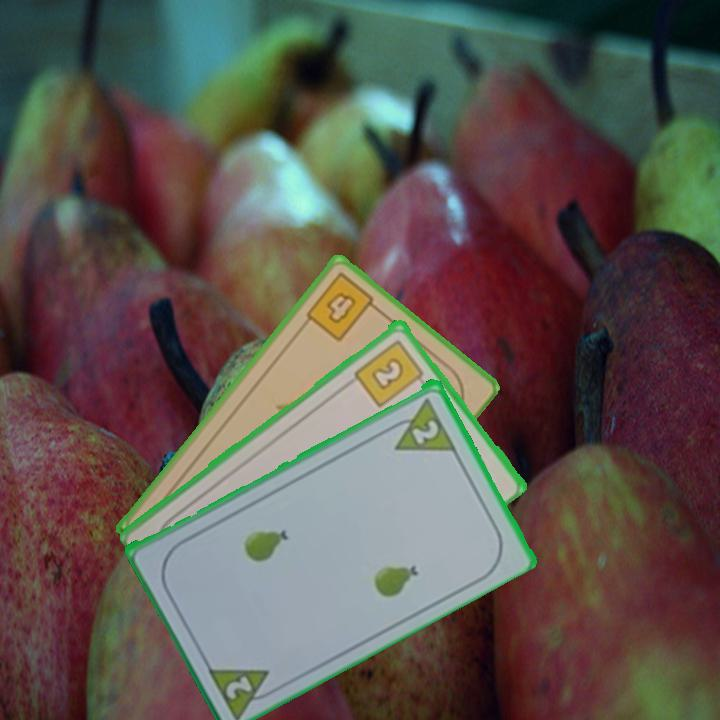2b: (350, 335, 430, 410)
2p: (408, 415, 442, 447), (222, 671, 256, 702)
4b: (302, 268, 383, 345)
